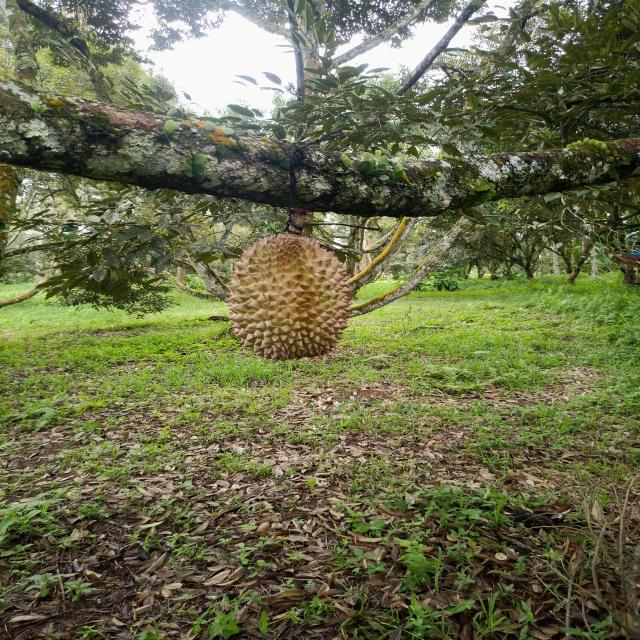mature: (227, 233, 352, 362)
